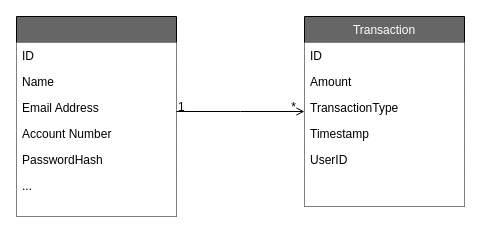
This 481x233 diagram has some shape labels left out. Here are the shapes that lost their labels. From the top down, the box of each, then its label:
(16, 16, 176, 216): BankWebAppUser
(304, 172, 464, 206): ItemName
